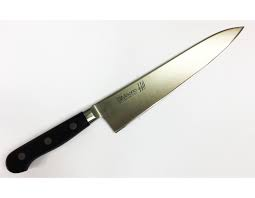kuchillu: (8, 25, 245, 173)
